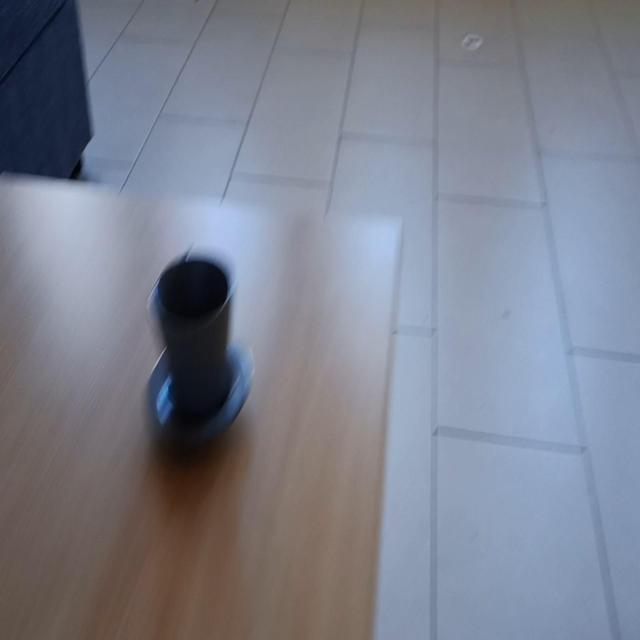cup: (141, 247, 260, 459)
